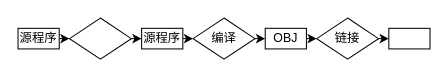
This 448x77 diagram has some shape labels left out. Here are the shapes that lost their labels. From the top down, the box of each, then its label:
(68, 17, 131, 59): 预处理
(388, 27, 430, 49): EXE
